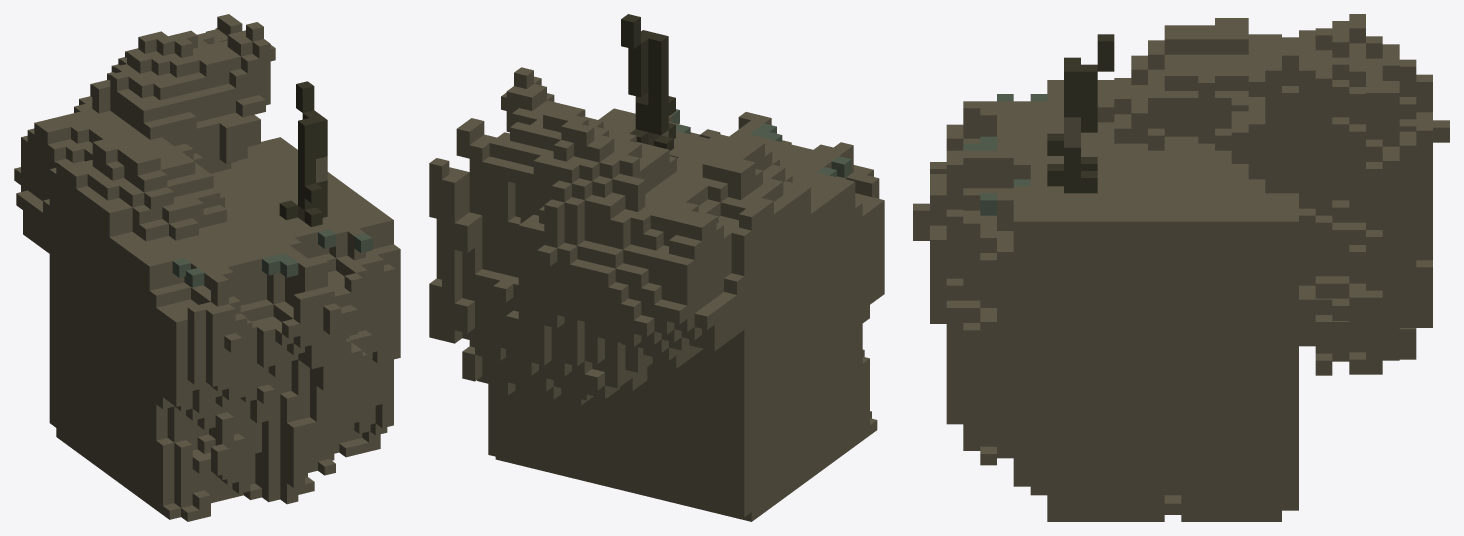
The model's file is cliff_rock_00.glb.
The picture shows the model from 3 angles, left to right: view 1: azimuth 30°, elevation 25°; view 2: azimuth 150°, elevation 25°; view 3: azimuth 270°, elevation 25°; orthographic projection. The views are drawn at different scales.
Parts seen in each view (by area): view 1: cliff_rock_00; view 2: cliff_rock_00; view 3: cliff_rock_00.
Boxes of the visible parts, x1,y1,x2,y2 form: cliff_rock_00: [14, 14, 400, 521]; cliff_rock_00: [429, 14, 884, 521]; cliff_rock_00: [913, 14, 1449, 521].
Bounding box in the file's own units: 4 × 5.95 × 6.4.
Materials: 1 (1 with a texture image).
